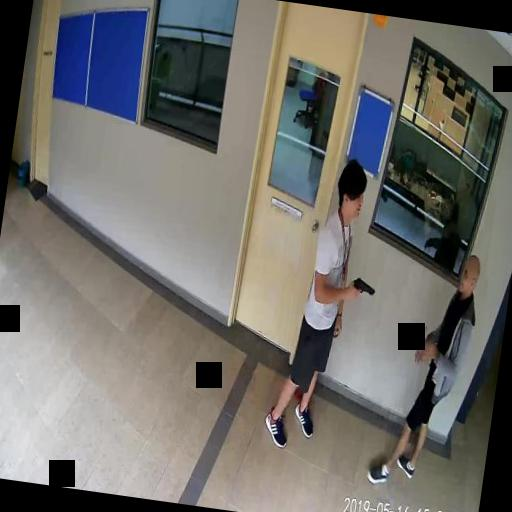Handgun: (349, 276, 375, 300)
